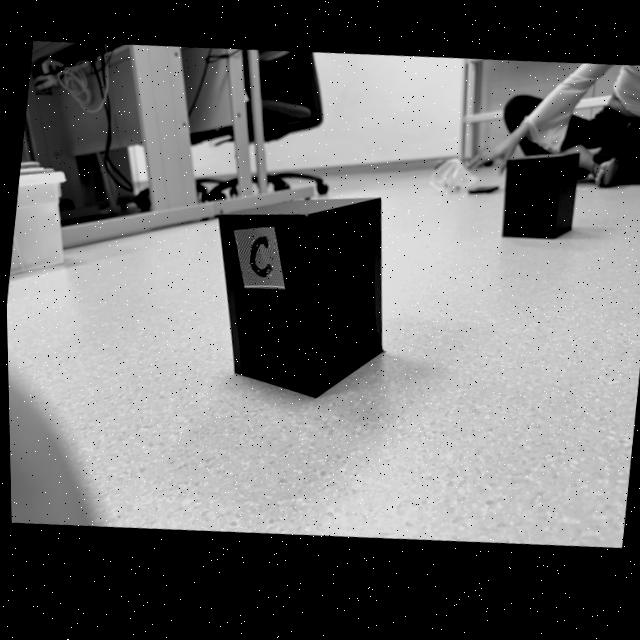C: (249, 242, 270, 280)
